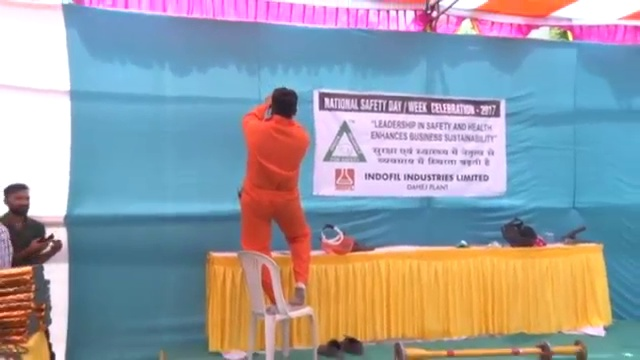helmet_off: (2, 181, 32, 217), (268, 88, 301, 118)
person: (227, 85, 315, 304), (1, 181, 65, 274)
